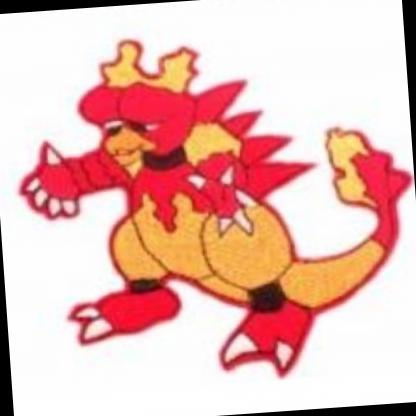Magmar: (1, 1, 416, 416)
